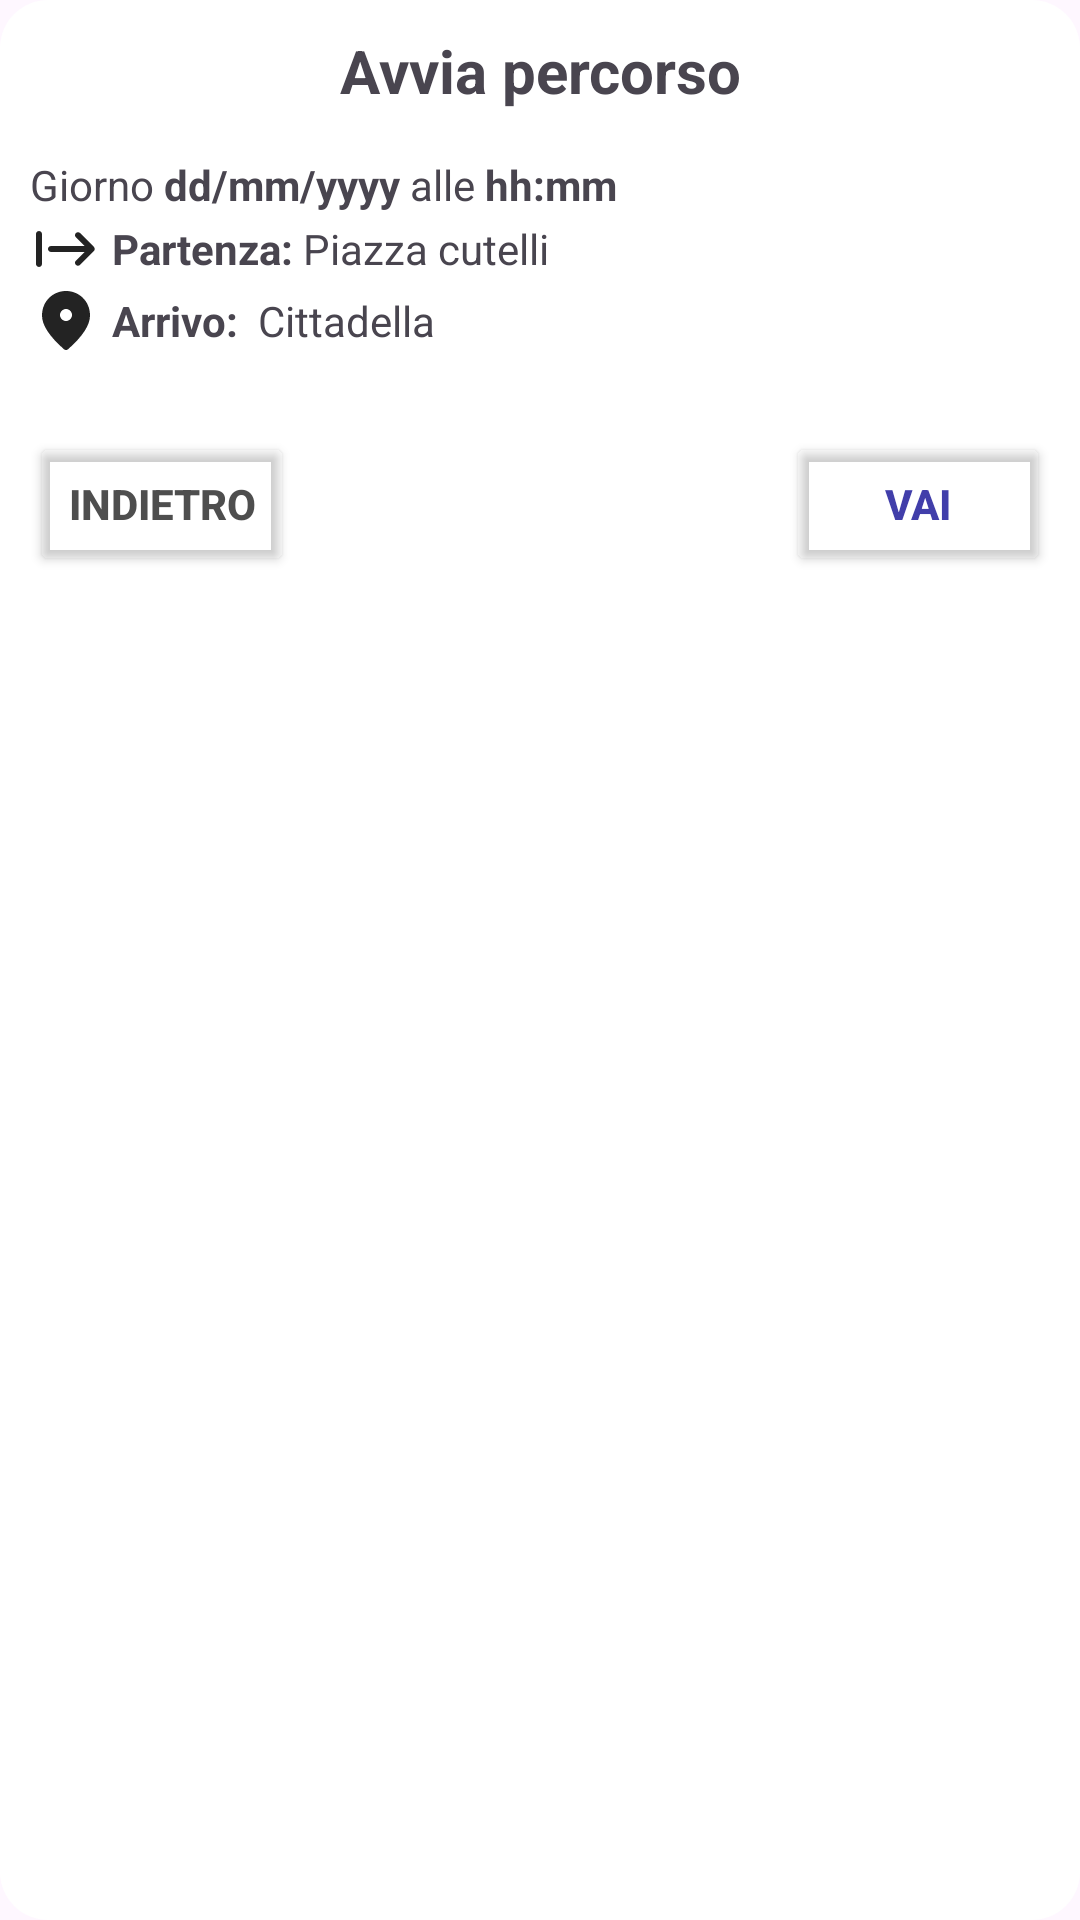

Point at icon controls on the screen. Image size 1080w x 1920h, points as (x,y).
destinazione: (66,320)
start: (65,249)
